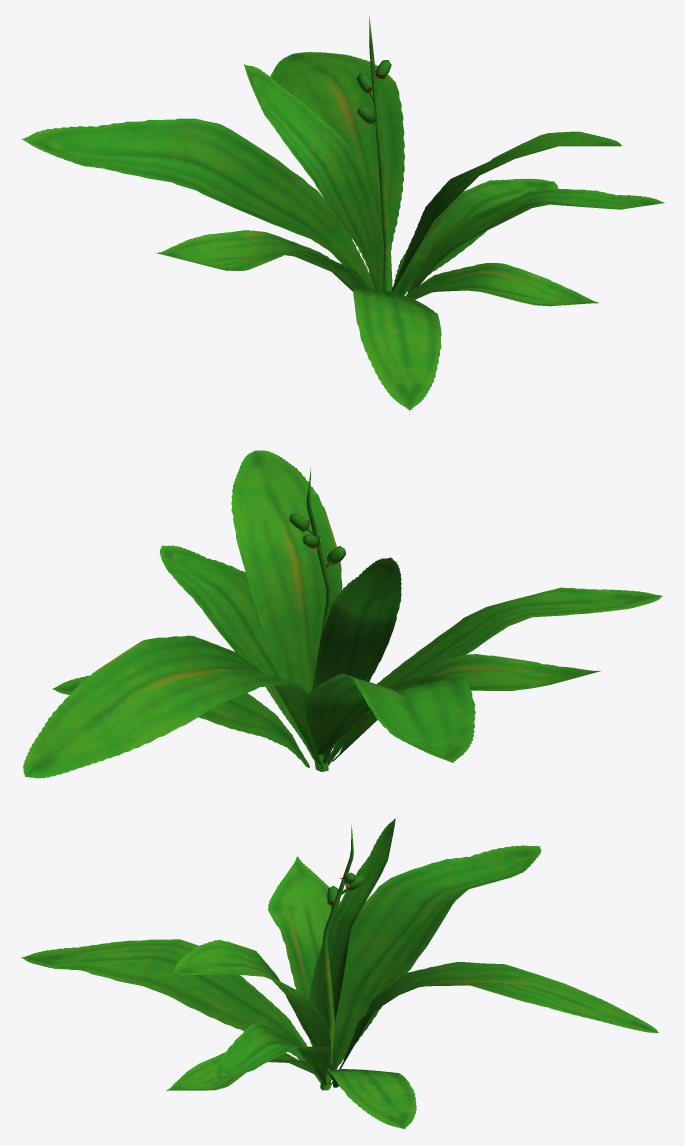
File: berry-1.glb
3 views of the same model, one above another, from view 1: azimuth 30°, elevation 25°; view 2: azimuth 150°, elevation 25°; view 3: azimuth 270°, elevation 25° (orthographic). The views are drawn at different scales.
Parts seen in each view (by area): view 1: Plant_bud_Berry_plant_0; view 2: Plant_bud_Berry_plant_0; view 3: Plant_bud_Berry_plant_0.
Part boxes in pixels (left/top/right/bottom): Plant_bud_Berry_plant_0: left=22, top=16, right=664, bottom=410; Plant_bud_Berry_plant_0: left=23, top=450, right=662, bottom=778; Plant_bud_Berry_plant_0: left=21, top=818, right=658, bottom=1129.
Size of the model in its own units: 0.9415 by 0.5803 by 1.28.
1 material, 1 textured.
